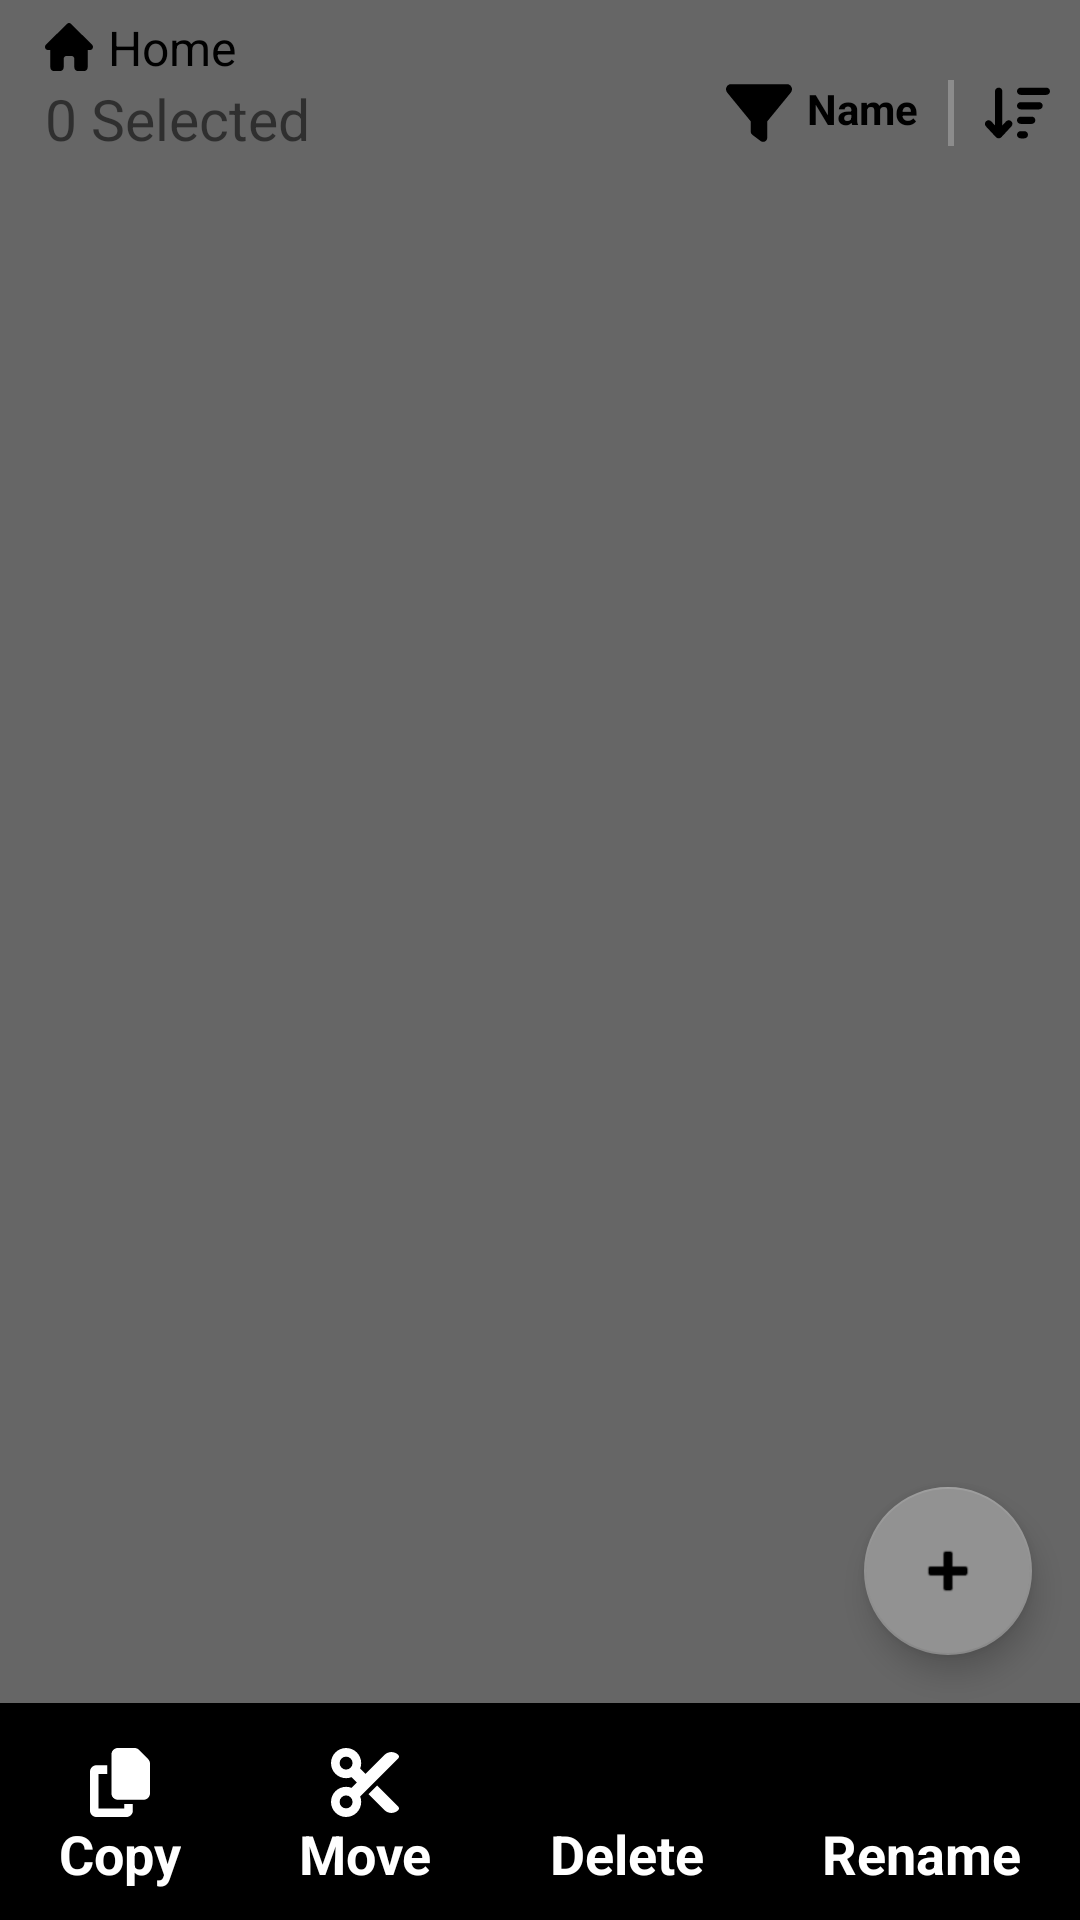

Locate icon controls on the screen. Image size 1080w x 1920h, boxes as rect(x1, y1, x2, y2).
add: rect(864, 1487, 1032, 1655)
arrow down sort: rect(985, 87, 1050, 139)
cut: rect(331, 1748, 399, 1817)
filter: rect(726, 84, 792, 142)
